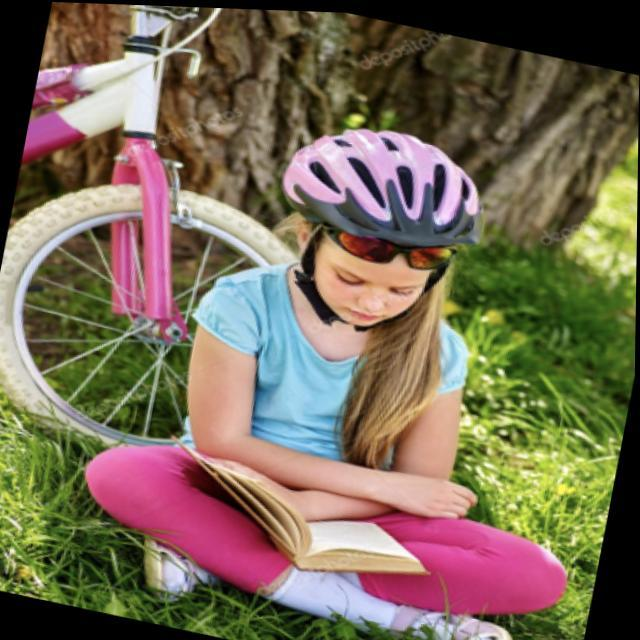Helmet: (276, 105, 481, 338)
